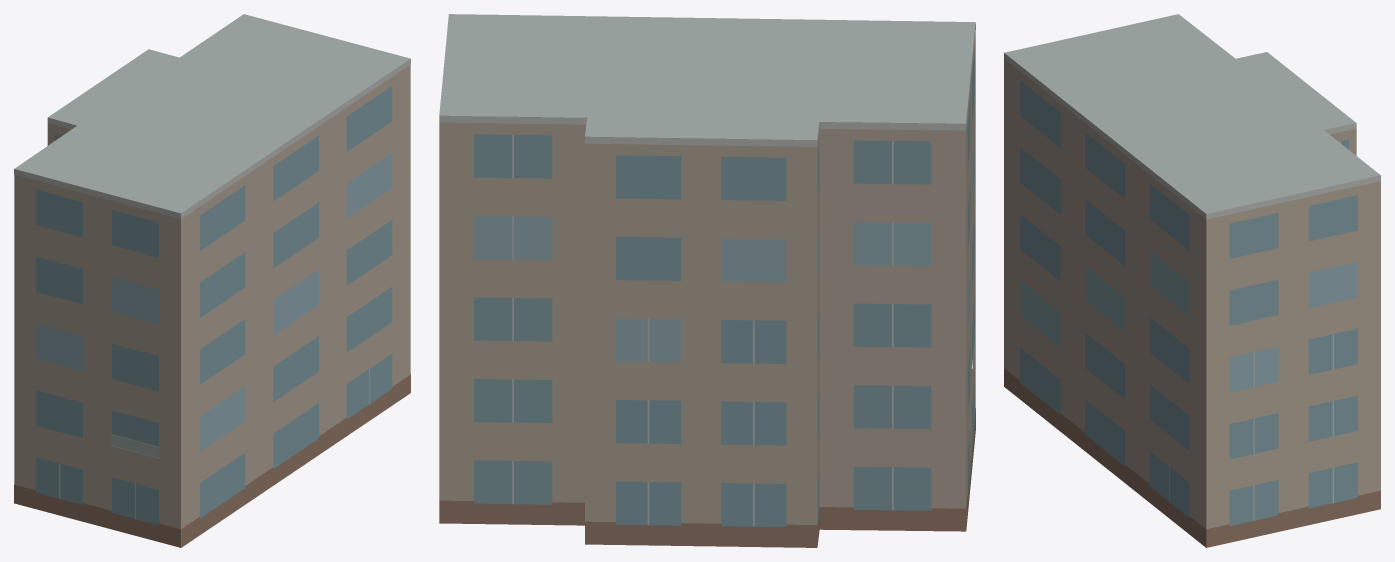
The model's file is survey-upis-32721952.glb.
The picture shows the model from 3 angles, left to right: view 1: azimuth 30°, elevation 25°; view 2: azimuth 150°, elevation 25°; view 3: azimuth 270°, elevation 25°; orthographic projection. The views are drawn at different scales.
Visible parts, largest first — view 1: survey-upis-32721952.tmp; view 2: survey-upis-32721952.tmp; view 3: survey-upis-32721952.tmp.
Boxes of the visible parts, bbox=[...] form: survey-upis-32721952.tmp: bbox=[14, 14, 410, 547]; survey-upis-32721952.tmp: bbox=[439, 14, 975, 547]; survey-upis-32721952.tmp: bbox=[1004, 14, 1380, 547].
Bounding box in the file's own units: 18.44 × 14.35 × 14.68.
